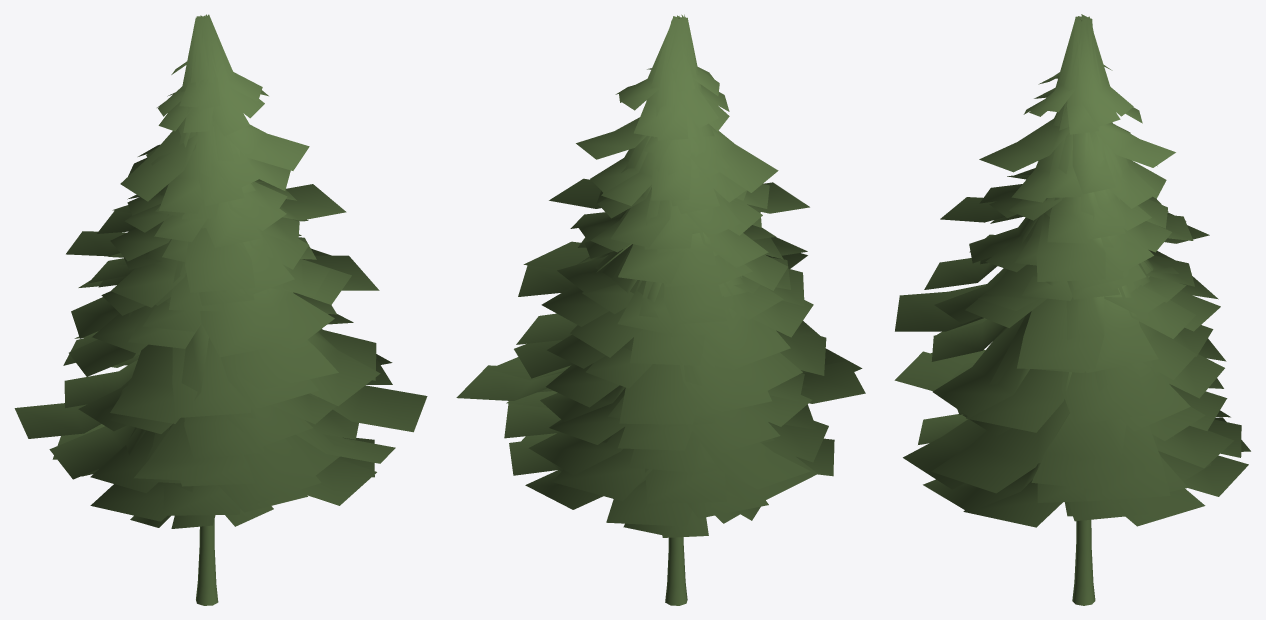
Rendered from pine_tree_l0dtest.fbx.
3 renders of one model, left to right at view 1: azimuth 30°, elevation 25°; view 2: azimuth 150°, elevation 25°; view 3: azimuth 270°, elevation 25°, orthographic.
Visible parts, largest first — view 1: pinetree_LOD0; view 2: pinetree_LOD0; view 3: pinetree_LOD0.
Boxes of the visible parts, box(x1,y1,x2,y2) form: pinetree_LOD0: box(14, 14, 427, 605); pinetree_LOD0: box(456, 14, 865, 605); pinetree_LOD0: box(894, 14, 1250, 605).
Size of what is drawn, in the model's own units: 13.07 by 21.31 by 11.84.
